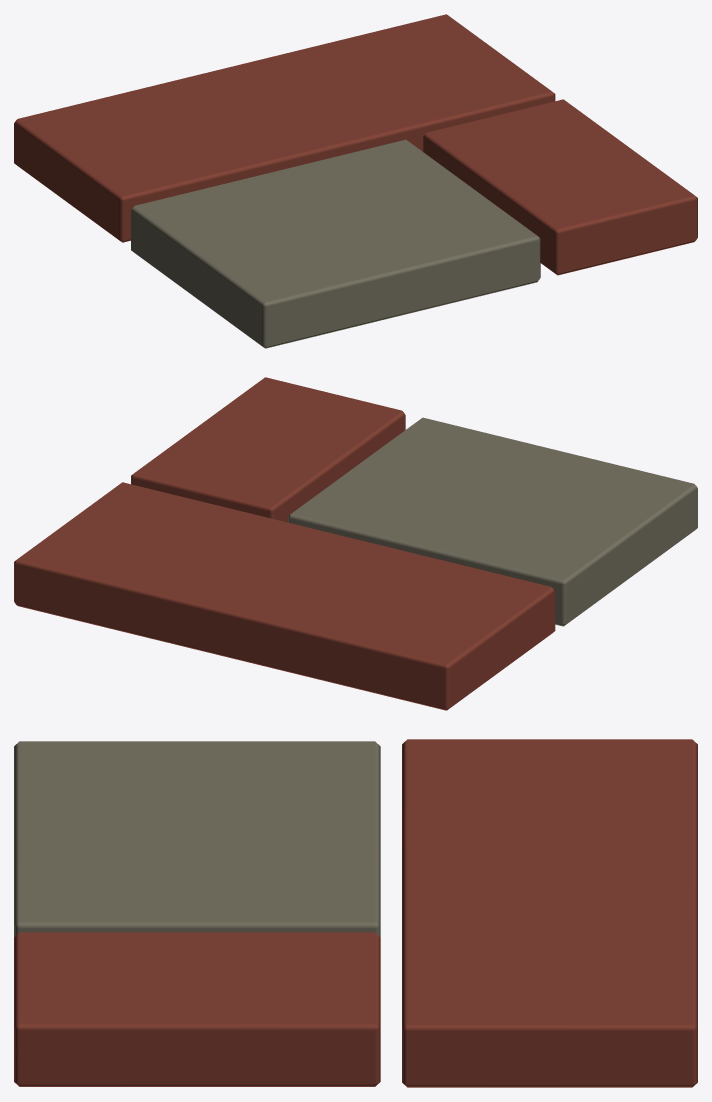
Rendered from stone-halls-tile-b.9da65e24.glb.
3 renders of one model, top to bottom at view 1: azimuth 30°, elevation 25°; view 2: azimuth 150°, elevation 25°; view 3: azimuth 270°, elevation 25°, orthographic. The views are drawn at different scales.
Visible parts, largest first — view 1: body; view 2: body; view 3: body.
Part boxes in pixels (<box>): body: <box>14,14,697,348</box>; body: <box>14,377,697,710</box>; body: <box>14,739,697,1087</box>.
Size of the model in its own units: 0.97 by 0.104 by 0.97.
